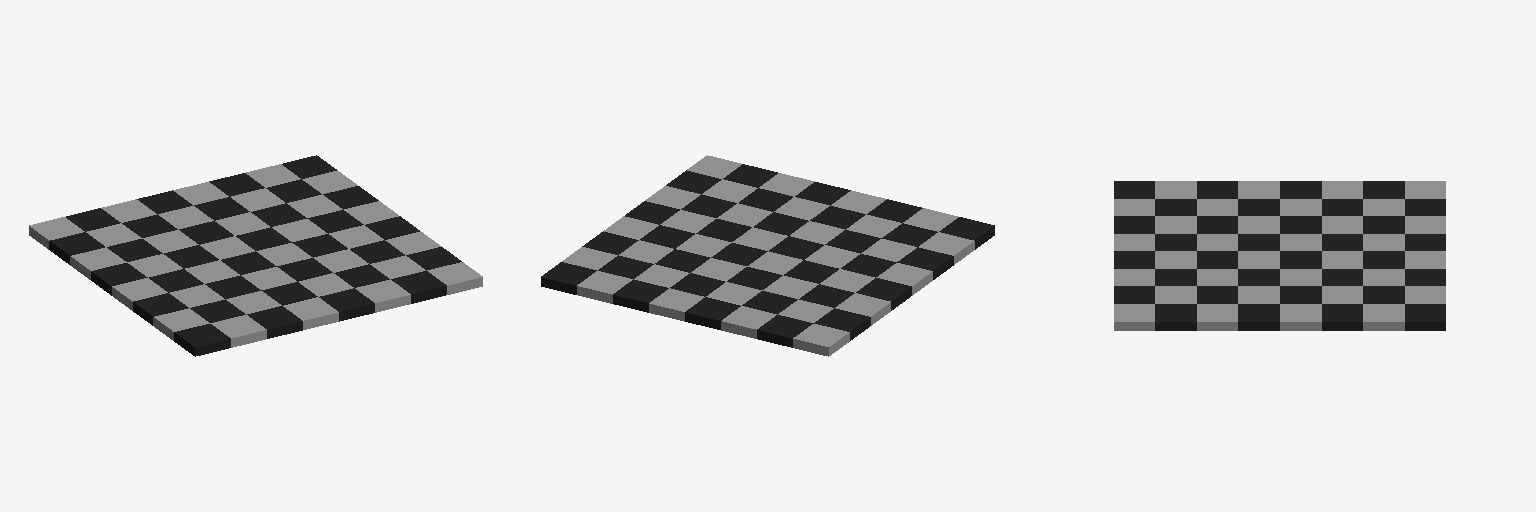
Rendered from board.obj.
3 renders of one model, left to right at view 1: azimuth 30°, elevation 25°; view 2: azimuth 150°, elevation 25°; view 3: azimuth 270°, elevation 25°, orthographic.
Visible parts, largest first — view 1: chessboard_Cube.002; view 2: chessboard_Cube.002; view 3: chessboard_Cube.002.
Part boxes in pixels (bbox=[...]): chessboard_Cube.002: bbox=[29, 155, 482, 356]; chessboard_Cube.002: bbox=[541, 155, 994, 356]; chessboard_Cube.002: bbox=[1114, 181, 1445, 330].
Bounding box in the file's own units: 16 × 0.5 × 16.